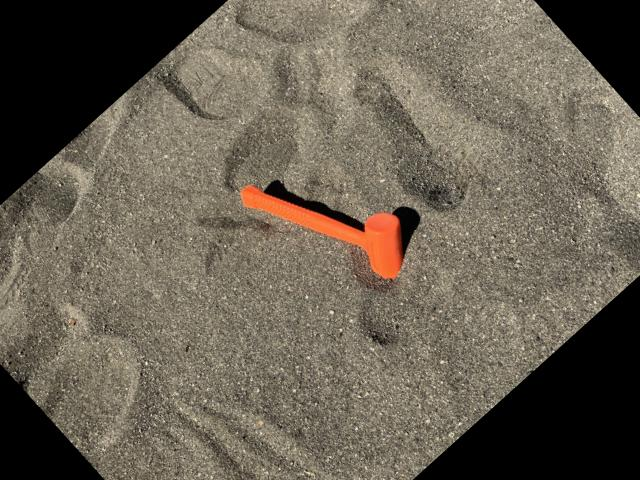hammer: (235, 124, 428, 320)
